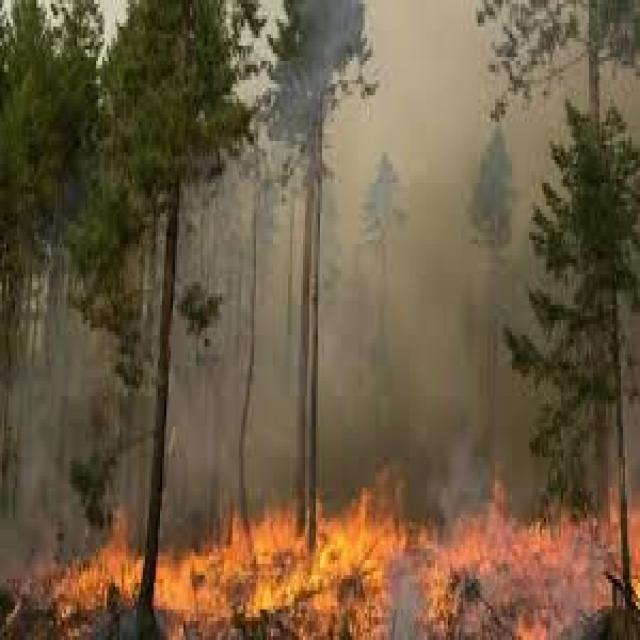Fire: (160, 468, 640, 640), (1, 484, 144, 640)
Smoke: (150, 160, 640, 469)
